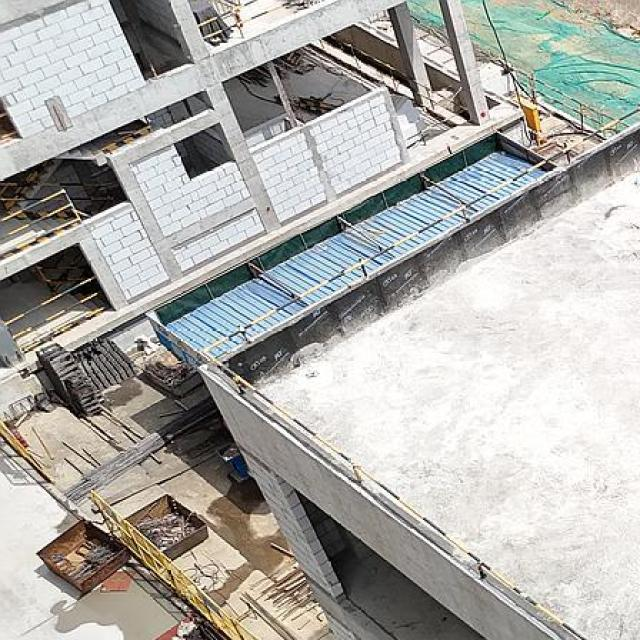edge_guardrail: (197, 105, 640, 640), (322, 35, 468, 146), (2, 274, 114, 360), (514, 67, 616, 130), (0, 188, 83, 259), (196, 0, 293, 41), (0, 112, 20, 142)
